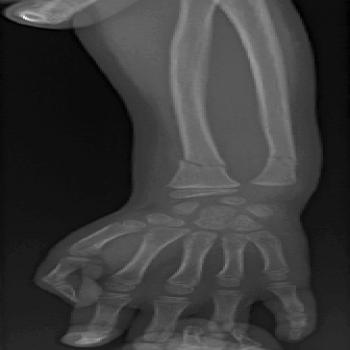Fracture: (163, 154, 243, 178), (267, 151, 300, 168)
